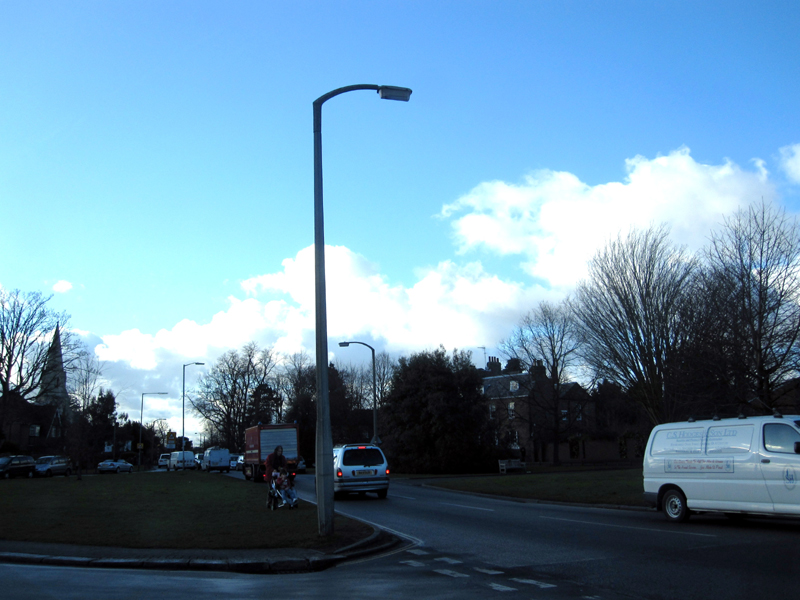light_pole: (307, 92, 341, 546)
